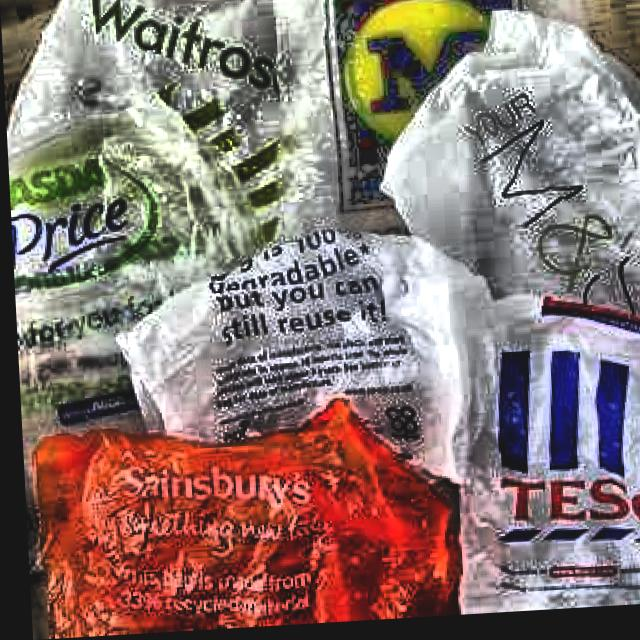Plastic: (113, 204, 529, 507), (23, 397, 456, 640), (5, 59, 262, 410), (367, 0, 640, 330), (432, 280, 640, 620)
